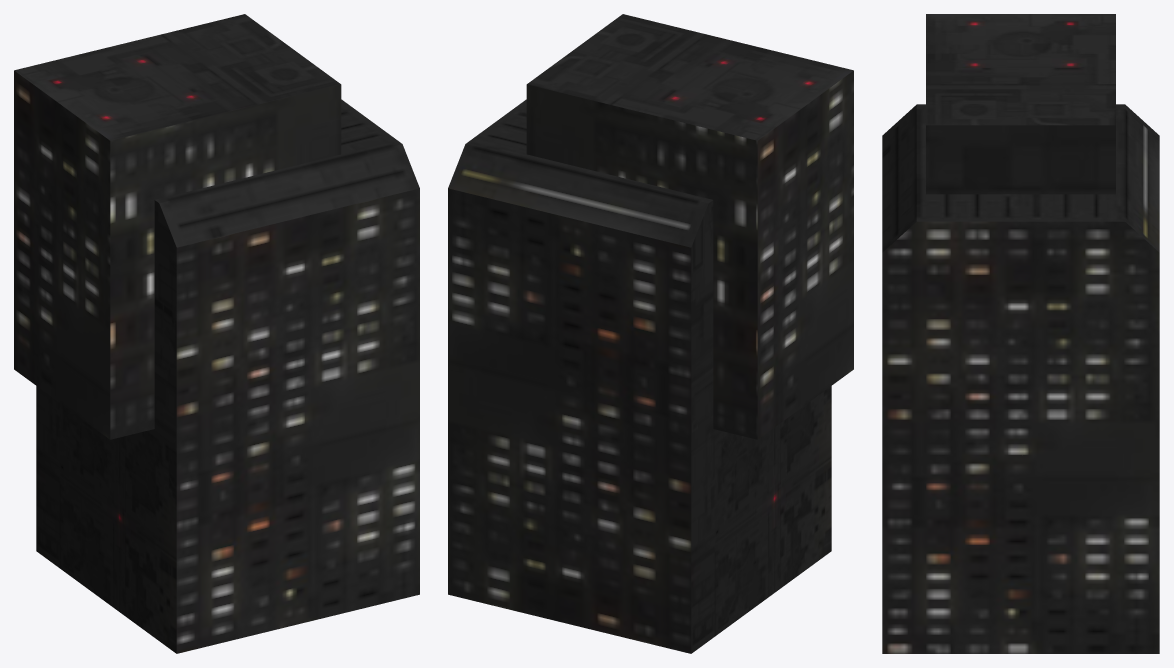
File: scifi_building_18.obj
The picture shows the model from 3 angles, left to right: view 1: azimuth 30°, elevation 25°; view 2: azimuth 150°, elevation 25°; view 3: azimuth 270°, elevation 25°; orthographic projection.
Parts seen in each view (by area): view 1: building_18; view 2: building_18; view 3: building_18.
Boxes of the visible parts, x1,y1,x2,y2 form: building_18: (14, 14, 419, 653); building_18: (448, 14, 853, 653); building_18: (882, 14, 1159, 653).
Size of the model in its own units: 50 by 84.36 by 42.28.
